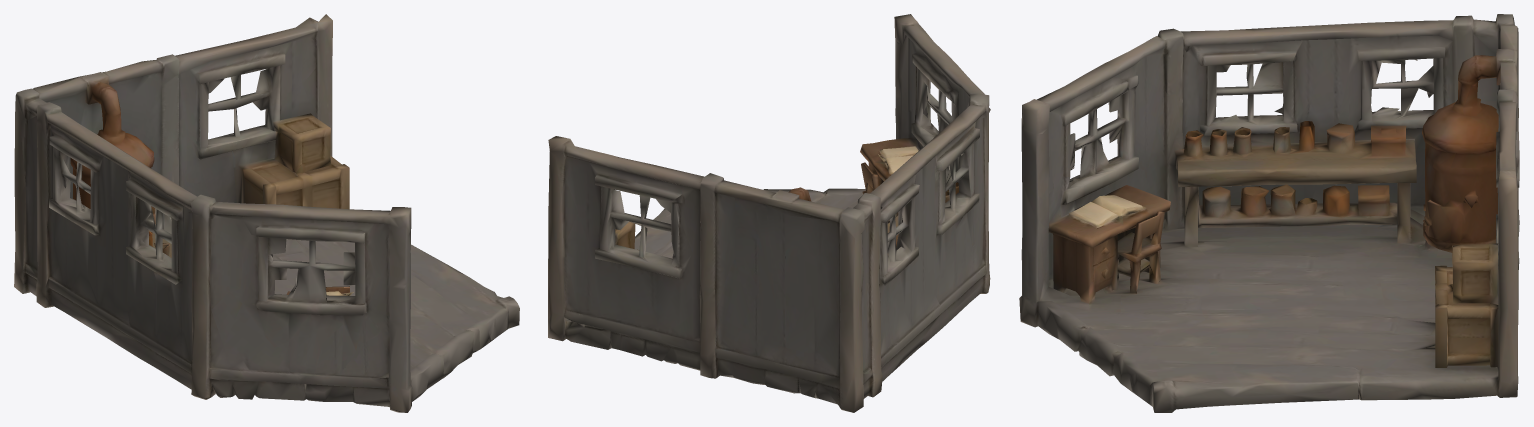
The model's file is room-cannery.glb.
The picture shows the model from 3 angles, left to right: view 1: azimuth 30°, elevation 25°; view 2: azimuth 150°, elevation 25°; view 3: azimuth 270°, elevation 25°; orthographic projection. The views are drawn at different scales.
Parts seen in each view (by area): view 1: tripo_node_07d4fe2f-a362-4443-863b-a1e3a223ab34; view 2: tripo_node_07d4fe2f-a362-4443-863b-a1e3a223ab34; view 3: tripo_node_07d4fe2f-a362-4443-863b-a1e3a223ab34.
Part boxes in pixels (x1=…): tripo_node_07d4fe2f-a362-4443-863b-a1e3a223ab34: x1=14, y1=14, x2=519, y2=412; tripo_node_07d4fe2f-a362-4443-863b-a1e3a223ab34: x1=548, y1=14, x2=990, y2=412; tripo_node_07d4fe2f-a362-4443-863b-a1e3a223ab34: x1=1019, y1=14, x2=1519, y2=412.
Bounding box in the file's own units: 0.8652 × 0.487 × 1.
1 material, 1 textured.
